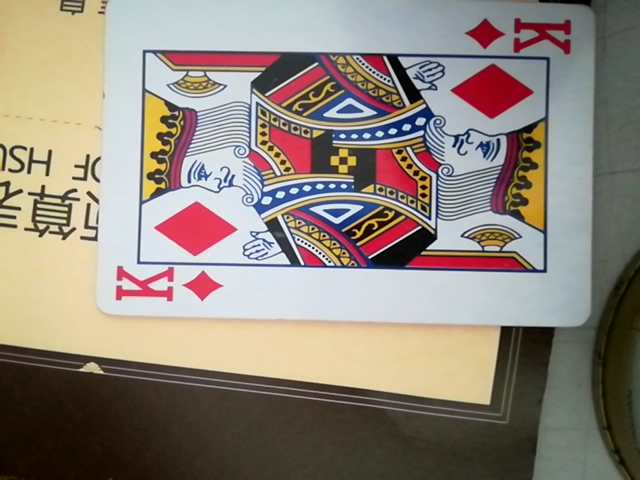fk k: (97, 6, 602, 324)
